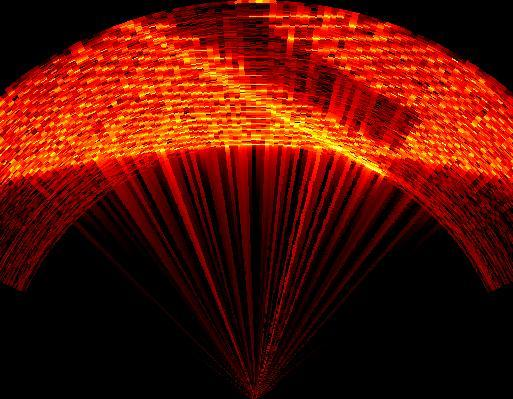pipe: (135, 1, 423, 175)
